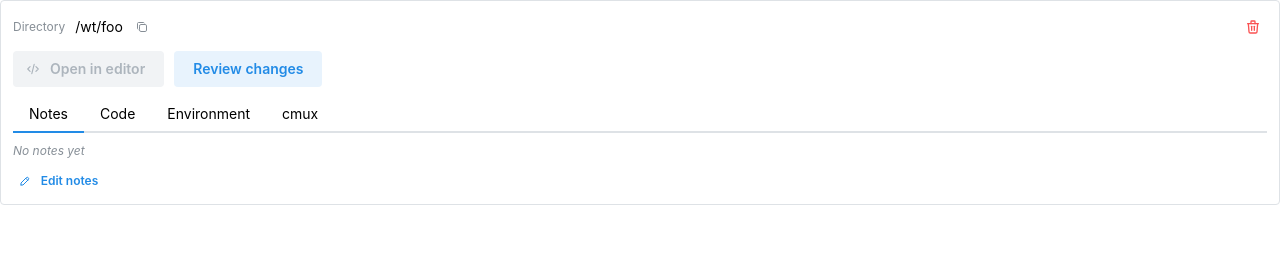
Test: WorktreeDetailCard › reveals the environment worktree info prints on the Environment tab
Click the tab "Environment": x=209, y=115 [151, 97, 266, 133]
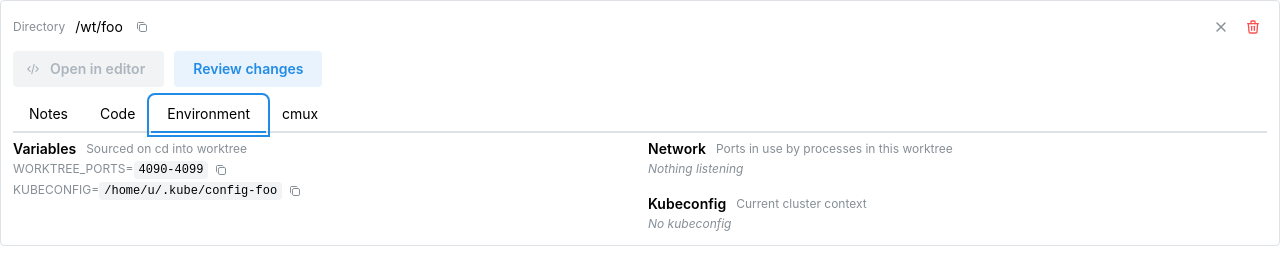
Expected: the text "4090-4099" is shown, [134, 161, 208, 179]
Expected: the text "/home/u/.kube/config-foo" is shown, [99, 182, 282, 200]
